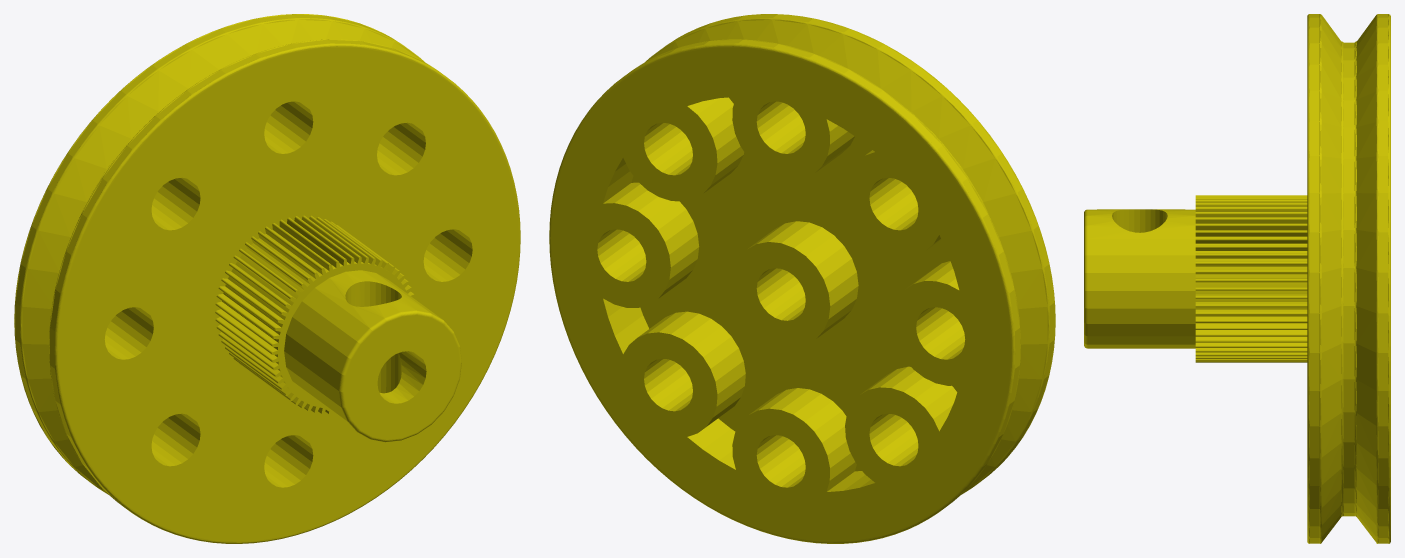
The model's file is BanhRang_RongRoc.glb.
3 renders of one model, left to right at view 1: azimuth 30°, elevation 25°; view 2: azimuth 150°, elevation 25°; view 3: azimuth 270°, elevation 25°, orthographic.
Parts seen in each view (by area): view 1: BanhRang_RongRoc; view 2: BanhRang_RongRoc; view 3: BanhRang_RongRoc.
Part boxes in pixels (x1=…): BanhRang_RongRoc: x1=14, y1=14, x2=520, y2=543; BanhRang_RongRoc: x1=549, y1=14, x2=1055, y2=543; BanhRang_RongRoc: x1=1084, y1=14, x2=1390, y2=543.
Bounding box in the file's own units: 97.4 × 97.38 × 56.4.
